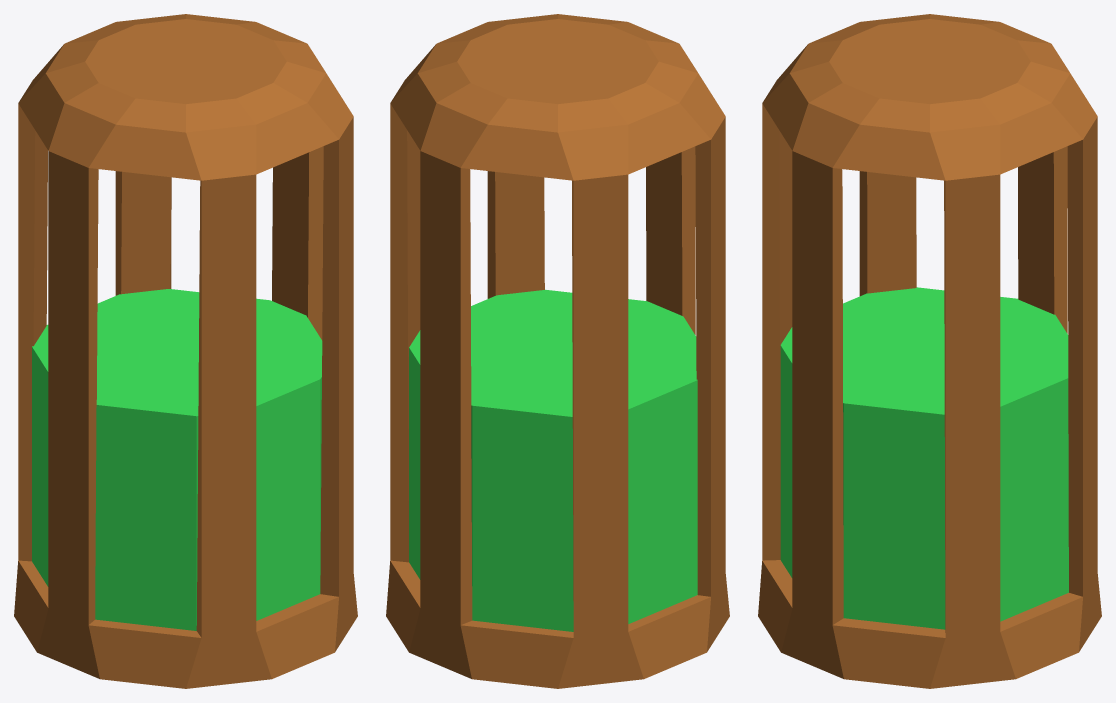
The model's file is decoVat2.glb.
3 renders of one model, left to right at view 1: azimuth 30°, elevation 25°; view 2: azimuth 150°, elevation 25°; view 3: azimuth 270°, elevation 25°, orthographic.
Visible parts, largest first — view 1: Cylinder, Cylinder.001; view 2: Cylinder, Cylinder.001; view 3: Cylinder, Cylinder.001.
Boxes of the visible parts, bbox=[...] form: Cylinder: bbox=[14, 14, 357, 688]; Cylinder.001: bbox=[32, 289, 322, 630]; Cylinder: bbox=[386, 14, 729, 688]; Cylinder.001: bbox=[409, 289, 697, 631]; Cylinder: bbox=[758, 14, 1101, 688]; Cylinder.001: bbox=[780, 287, 1068, 629].
Size of the model in its own units: 1.67 by 2.97 by 1.67.
